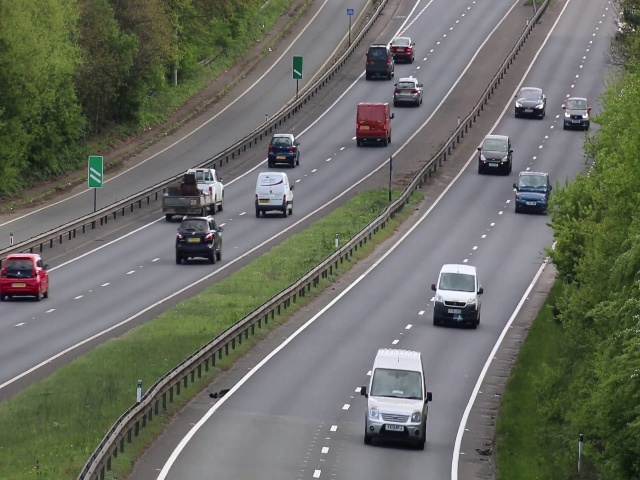car: (365, 348, 423, 448), (161, 166, 224, 217), (435, 265, 478, 325), (172, 217, 224, 265), (1, 252, 51, 301), (254, 170, 294, 221), (355, 100, 393, 145), (515, 169, 549, 214), (475, 134, 513, 172), (513, 83, 547, 119), (266, 132, 300, 168), (561, 95, 591, 132), (365, 46, 395, 80), (394, 77, 423, 106), (389, 35, 413, 60)
